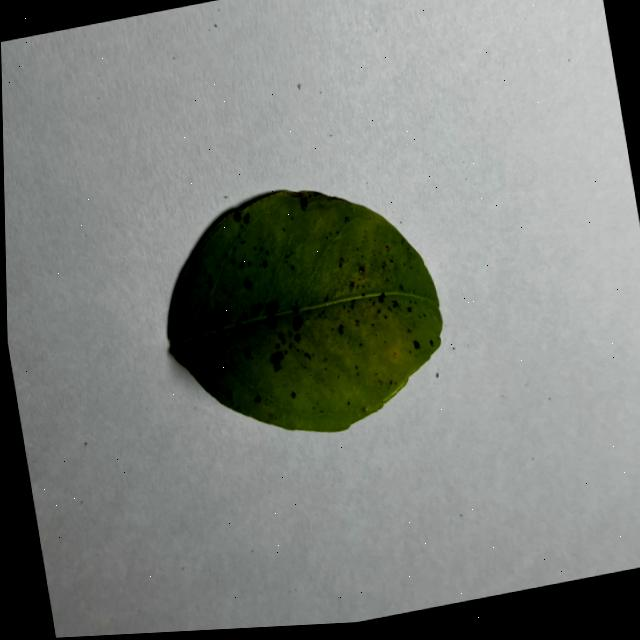sooty_mold: (169, 192, 443, 432)
